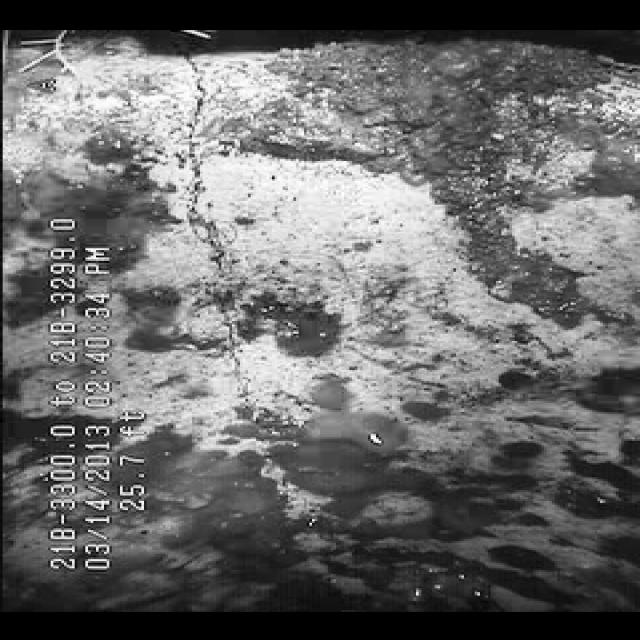Crack: (166, 67, 296, 476)
